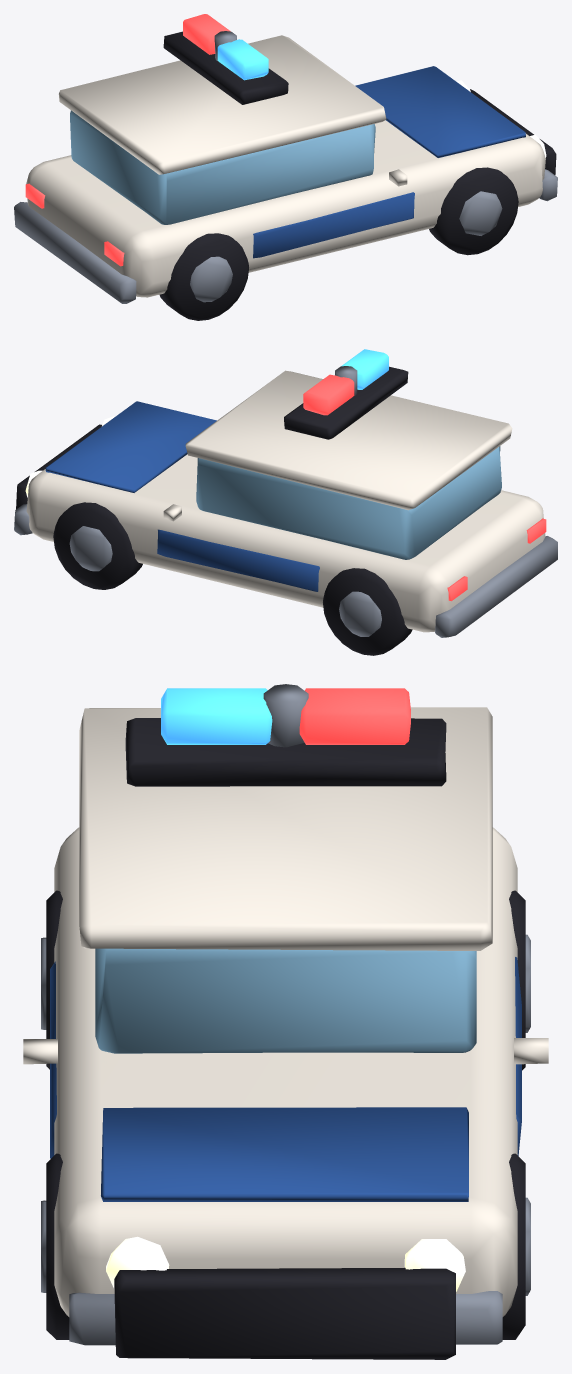
The model's file is police_car.glb.
3 views of the same model, one above another, from view 1: azimuth 30°, elevation 25°; view 2: azimuth 150°, elevation 25°; view 3: azimuth 270°, elevation 25° (orthographic). The views are drawn at different scales.
Parts seen in each view (by area): view 1: police_car.002, beacon.004; view 2: police_car.002, beacon.004; view 3: police_car.002, beacon.004.
Boxes of the visible parts, left/top/right/bottom form: police_car.002: left=14, top=31, right=557, bottom=320; beacon.004: left=183, top=14, right=268, bottom=80; police_car.002: left=14, top=366, right=557, bottom=655; beacon.004: left=303, top=349, right=388, bottom=415; police_car.002: left=23, top=707, right=548, bottom=1359; beacon.004: left=161, top=684, right=410, bottom=747.
Bounding box in the file's own units: 4.48 × 2.13 × 2.27.
Materials: 1 (1 with a texture image).
